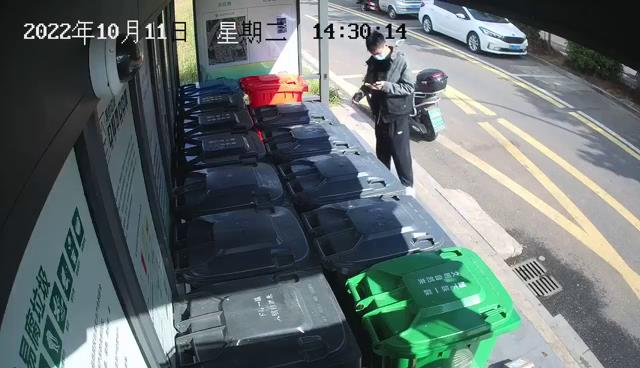person: (350, 31, 416, 197)
